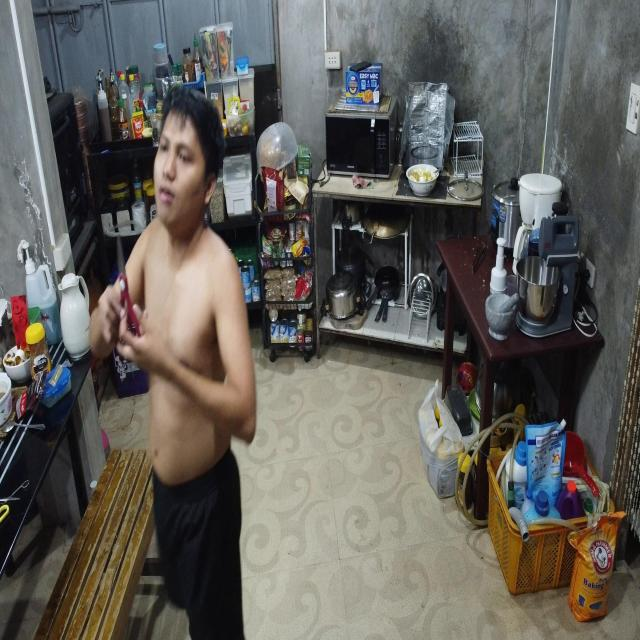scissor: (116, 233, 140, 337)
